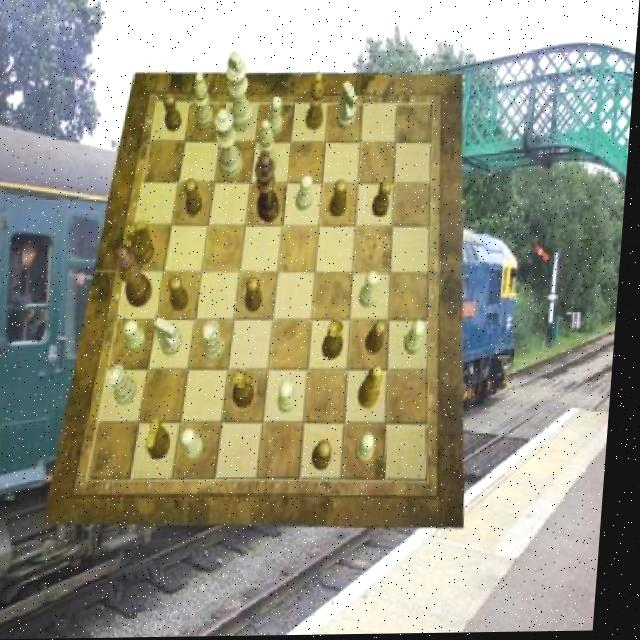bishop: (307, 73, 328, 132), (363, 366, 389, 409)
black-bishop: (254, 152, 285, 225)
black-king: (127, 219, 160, 265), (153, 421, 180, 461)
black-knight: (171, 276, 196, 311), (163, 95, 185, 133), (186, 179, 207, 218), (370, 321, 392, 355), (249, 277, 269, 313), (333, 182, 352, 218), (375, 181, 394, 217), (319, 440, 340, 471)
black-pawn: (114, 244, 160, 308)
black-queen: (237, 370, 262, 409), (326, 320, 350, 360)
black-rook: (194, 73, 218, 131), (259, 121, 282, 176)
white-bishop: (225, 52, 259, 134)
white-king: (159, 317, 190, 356), (338, 82, 361, 131)
white-knight: (187, 429, 212, 462), (127, 319, 152, 352), (410, 321, 432, 356), (363, 274, 383, 310), (269, 97, 287, 137), (298, 176, 317, 212), (283, 382, 303, 415), (363, 434, 383, 465)
white-pawn: (214, 110, 249, 179)
white-queen: (112, 366, 144, 408), (206, 320, 232, 363)
